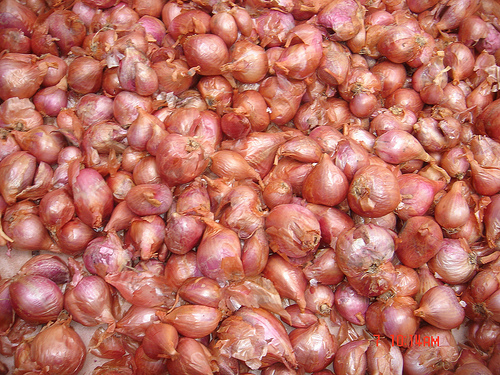onion: (61, 255, 123, 328), (32, 324, 87, 374), (300, 152, 348, 205), (9, 275, 62, 322)
